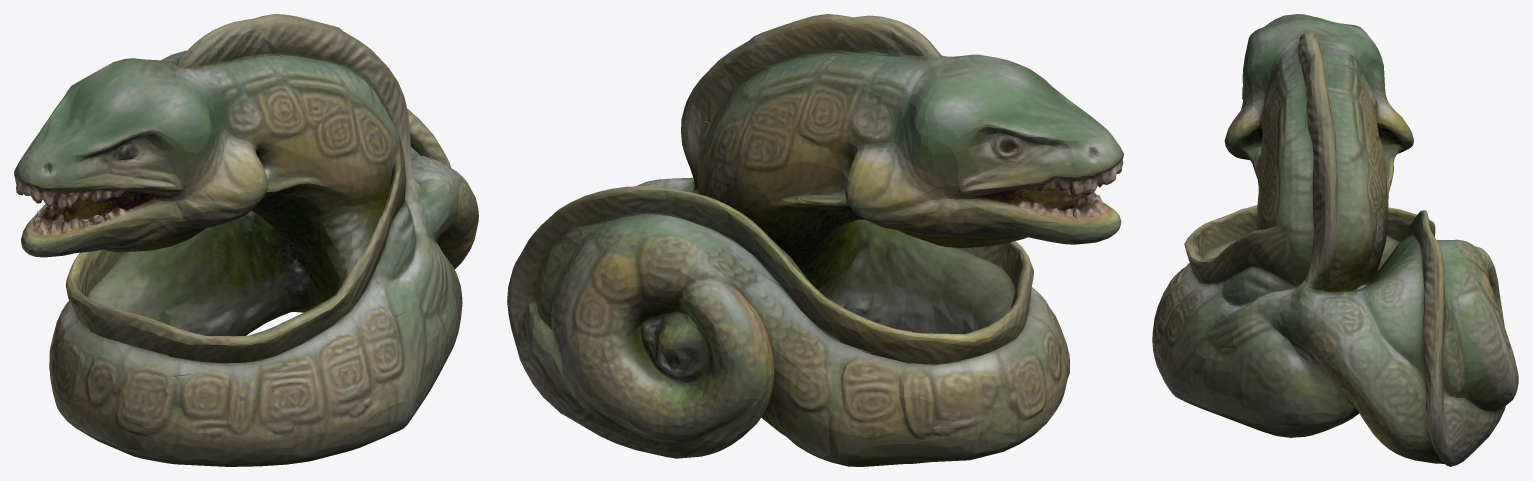
The model's file is cisternEel.glb.
The picture shows the model from 3 angles, left to right: view 1: azimuth 30°, elevation 25°; view 2: azimuth 150°, elevation 25°; view 3: azimuth 270°, elevation 25°; orthographic projection. The views are drawn at different scales.
Visible parts, largest first — view 1: world; view 2: world; view 3: world.
Boxes of the visible parts, <box> form: world: <box>14,14,478,466</box>; world: <box>507,14,1123,466</box>; world: <box>1152,14,1518,466</box>.
Bounding box in the file's own units: 0.9997 × 0.7189 × 0.7104.
1 material, 1 textured.
